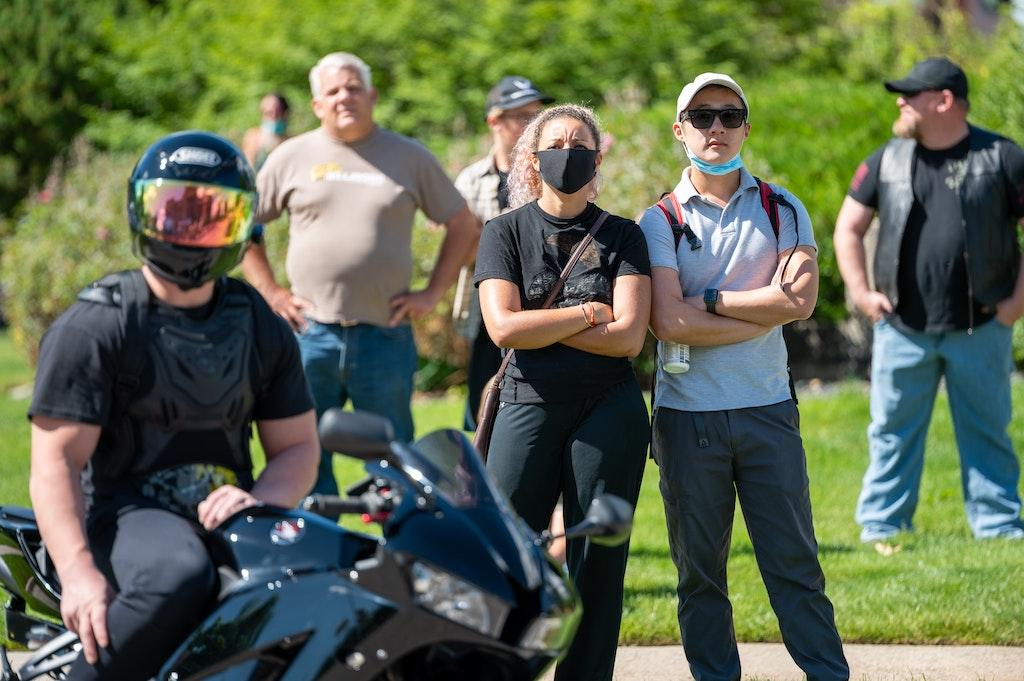helmet: (125, 128, 261, 293)
nohelmet: (672, 70, 753, 179), (520, 102, 604, 204), (883, 55, 972, 141), (308, 50, 378, 140)
